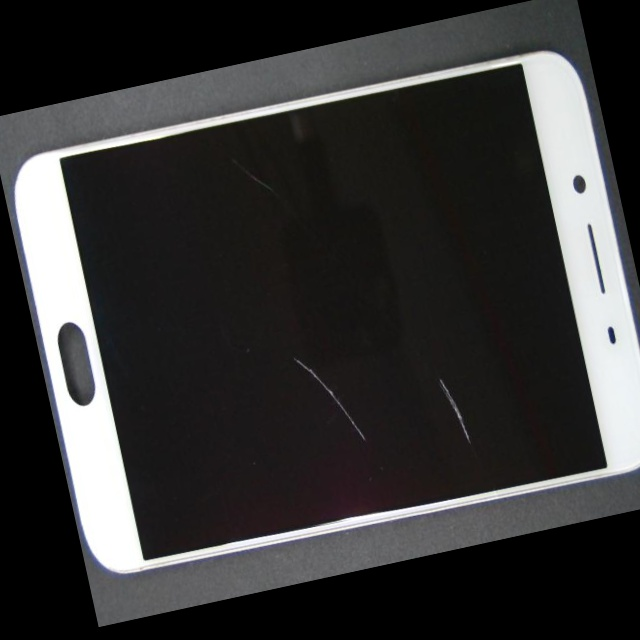scratch: (244, 221, 640, 582), (192, 248, 542, 594)
